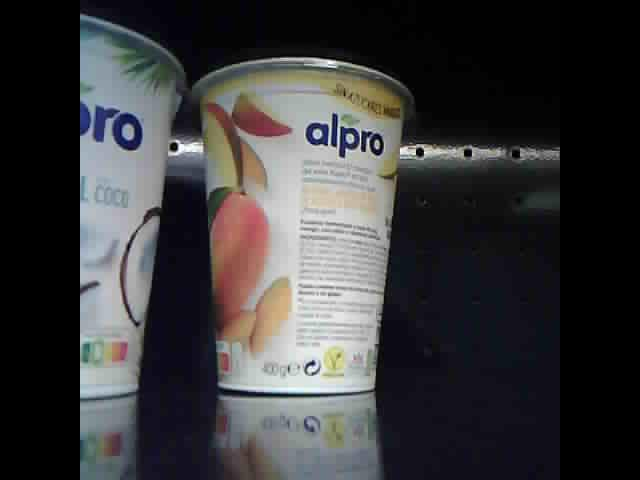alpro: (190, 55, 418, 397), (81, 9, 187, 403)
